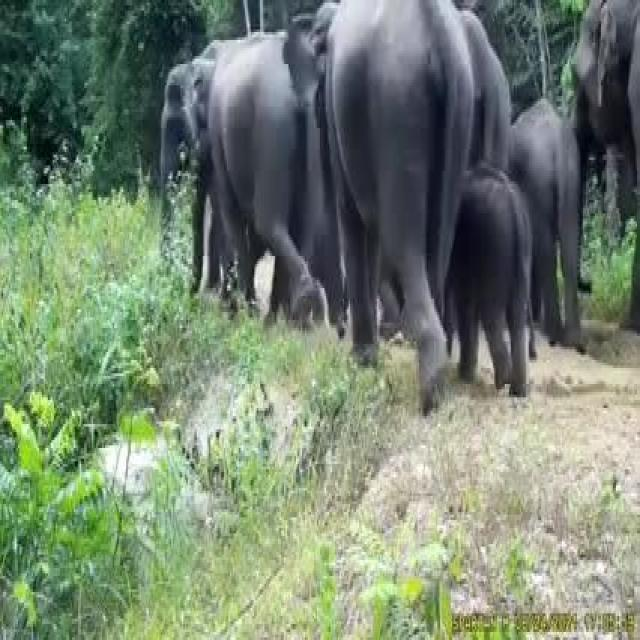Elephant: (288, 5, 464, 339), (153, 40, 324, 290), (508, 85, 588, 321), (457, 152, 538, 373), (554, 6, 640, 158)
